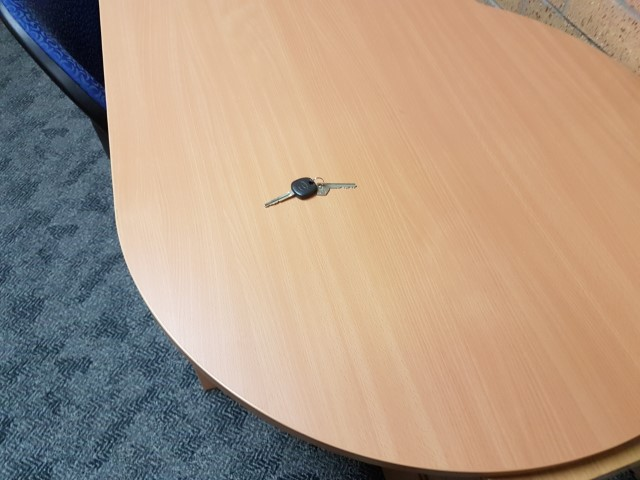key: (263, 177, 316, 207)
